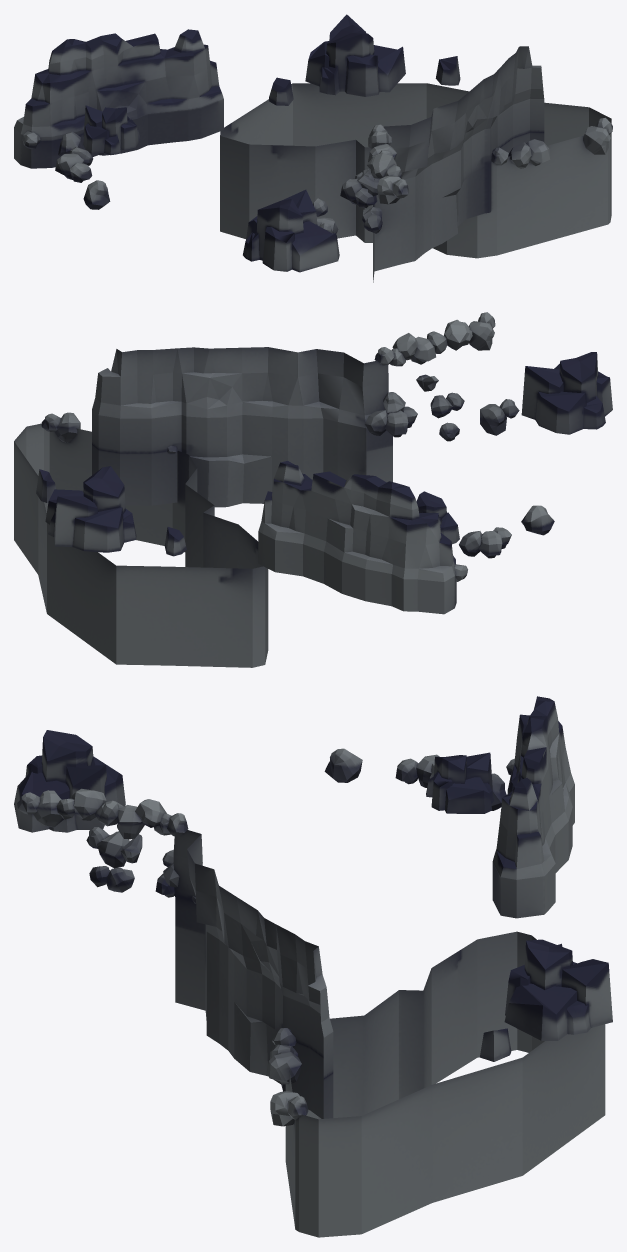
The model's file is Wall_01.FBX.
3 views of the same model, one above another, from view 1: azimuth 30°, elevation 25°; view 2: azimuth 150°, elevation 25°; view 3: azimuth 270°, elevation 25° (orthographic). The views are drawn at different scales.
Visible parts, largest first — view 1: Wall_01; view 2: Wall_01; view 3: Wall_01.
Boxes of the visible parts, x1,y1,x2,y2 form: Wall_01: (14,14,612,282); Wall_01: (14,312,612,667); Wall_01: (14,696,612,1237).
Bounding box in the file's own units: 40.02 × 16.06 × 32.53.
